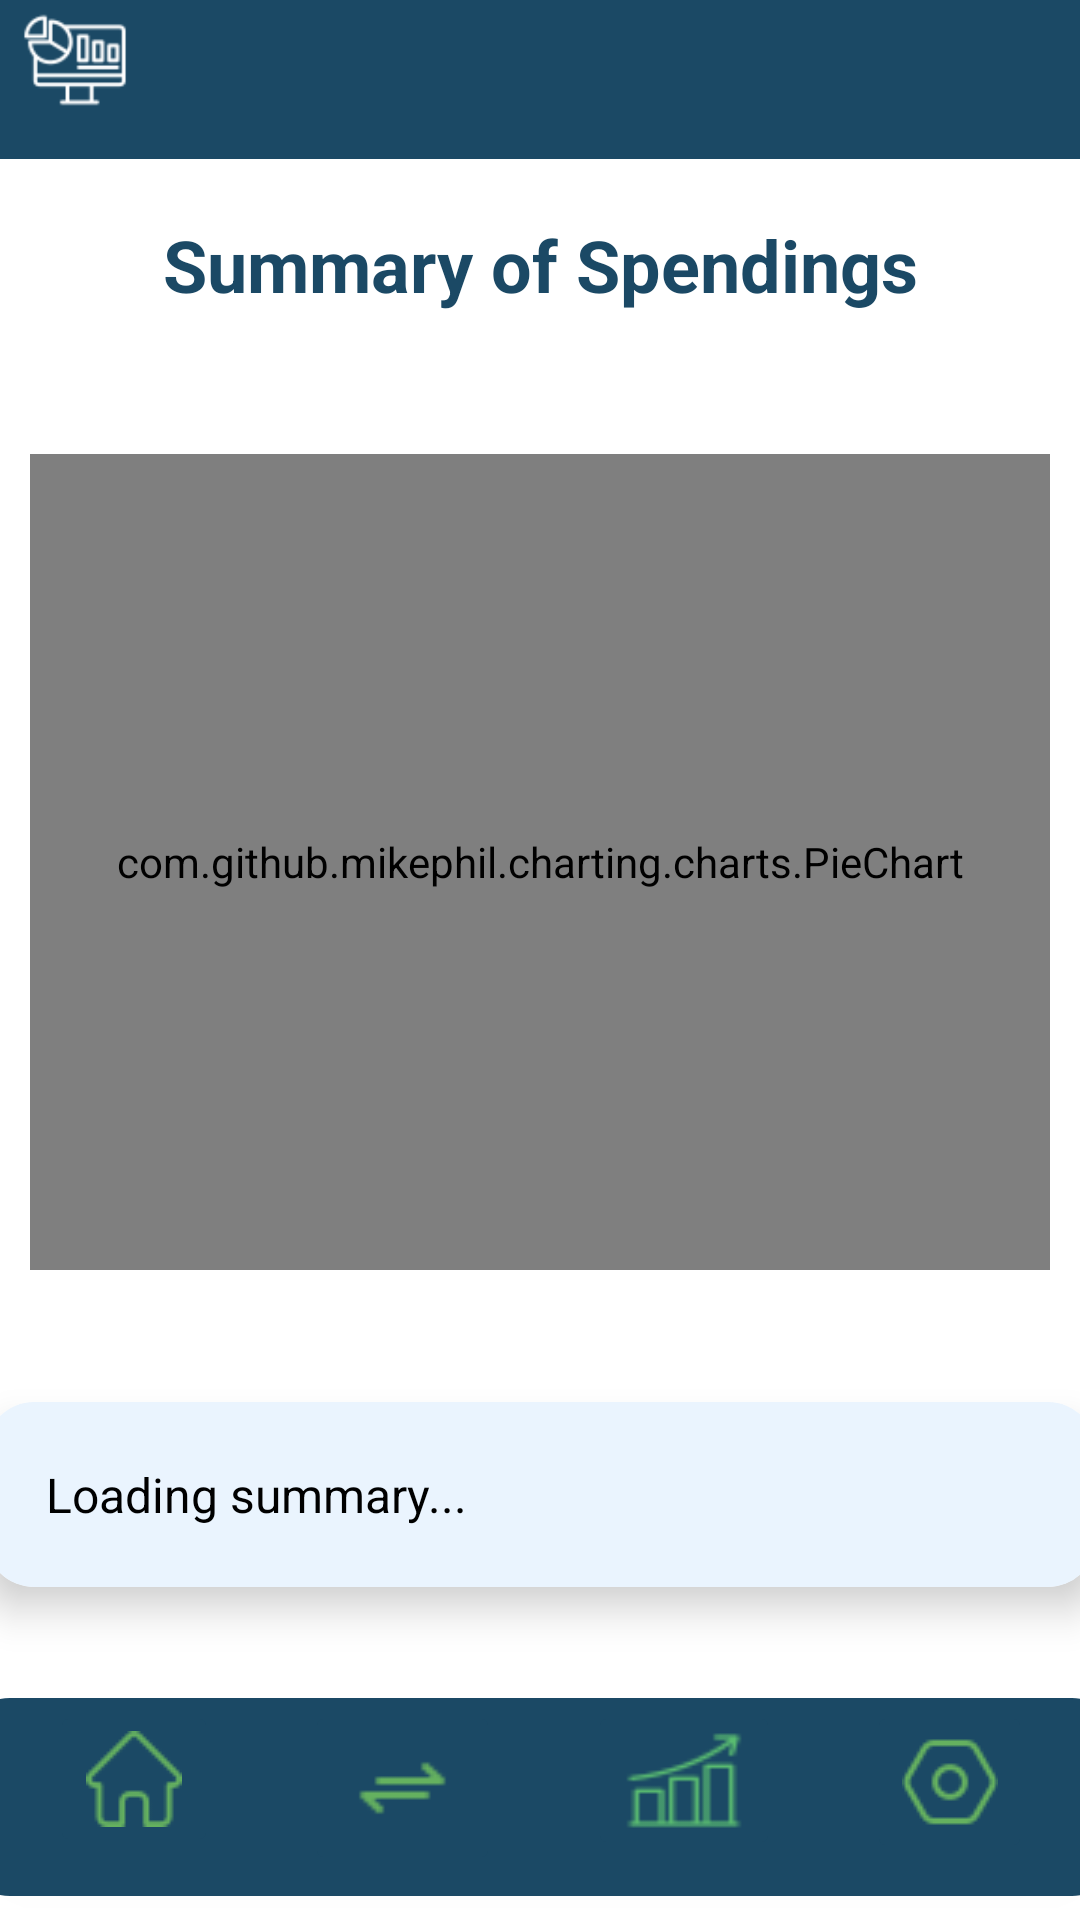

Where icons sit on this 1080x1920 app screen, as (x1, y1, x2, y2):
analysis: (24, 15, 126, 106)
graph: (628, 1734, 741, 1827)
setti: (902, 1739, 998, 1825)
tran: (359, 1762, 446, 1814)
